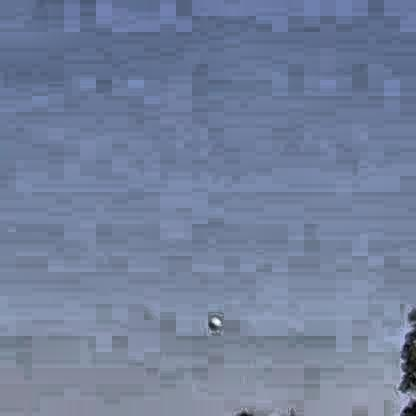golfball: (207, 315, 218, 328)
